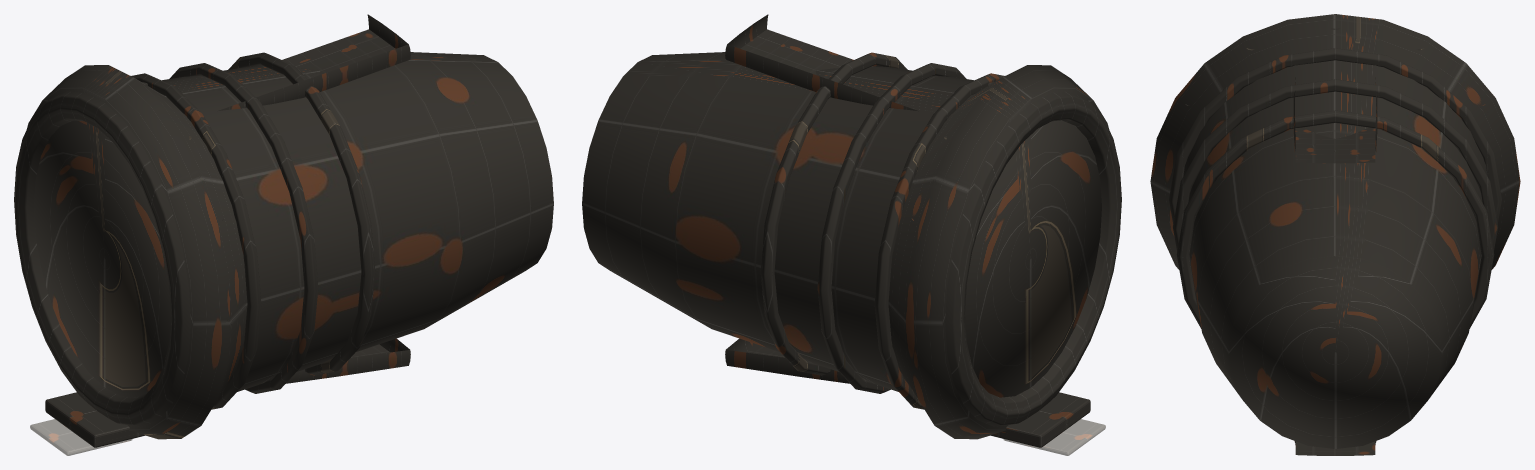
3 views of the same model, side by side, from view 1: azimuth 30°, elevation 25°; view 2: azimuth 150°, elevation 25°; view 3: azimuth 270°, elevation 25° (orthographic). The views are drawn at different scales.
Visible parts, largest first — view 1: LOD0_ENGINE_ION_SMALL_MAIN, engine_ion_small_Material_Mechanical_Merged, DET_soot_vent_band, DET_heat_discolor; view 2: LOD0_ENGINE_ION_SMALL_MAIN, engine_ion_small_Material_Mechanical_Merged, DET_soot_vent_band, DET_heat_discolor; view 3: LOD0_ENGINE_ION_SMALL_MAIN, engine_ion_small_Material_Mechanical_Merged.
Part boxes in pixels (x1,y1,x2,y2): LOD0_ENGINE_ION_SMALL_MAIN: (26, 52, 553, 439); engine_ion_small_Material_Mechanical_Merged: (14, 14, 410, 426); DET_soot_vent_band: (45, 392, 145, 447); DET_heat_discolor: (30, 419, 132, 455); LOD0_ENGINE_ION_SMALL_MAIN: (582, 52, 1109, 439); engine_ion_small_Material_Mechanical_Merged: (725, 14, 1121, 426); DET_soot_vent_band: (990, 392, 1090, 447); DET_heat_discolor: (1003, 419, 1105, 455); LOD0_ENGINE_ION_SMALL_MAIN: (1150, 14, 1520, 448); engine_ion_small_Material_Mechanical_Merged: (1169, 28, 1501, 455).
Size of the model in its own units: 2.86 by 2.12 by 2.12.
Materials: 3 (3 with a texture image).
